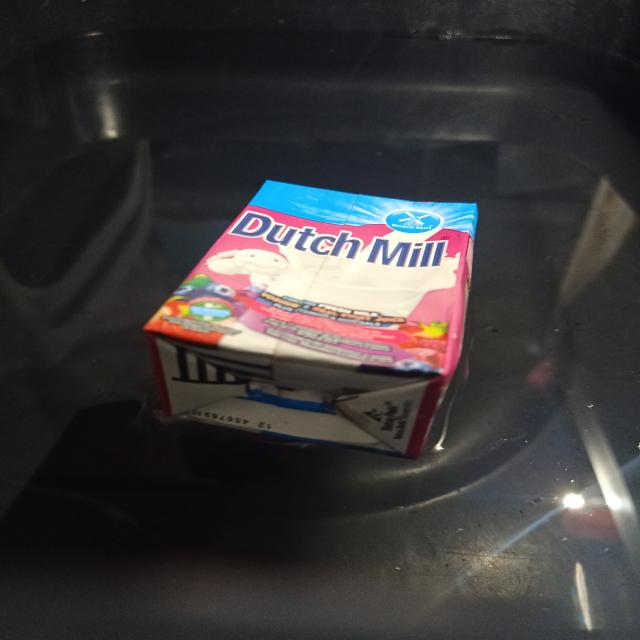Cardboard Box: (144, 180, 478, 459)
